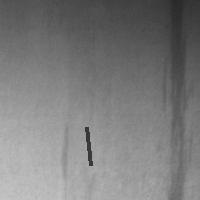inclusion: (161, 1, 193, 198), (55, 122, 79, 190), (84, 125, 92, 167)
